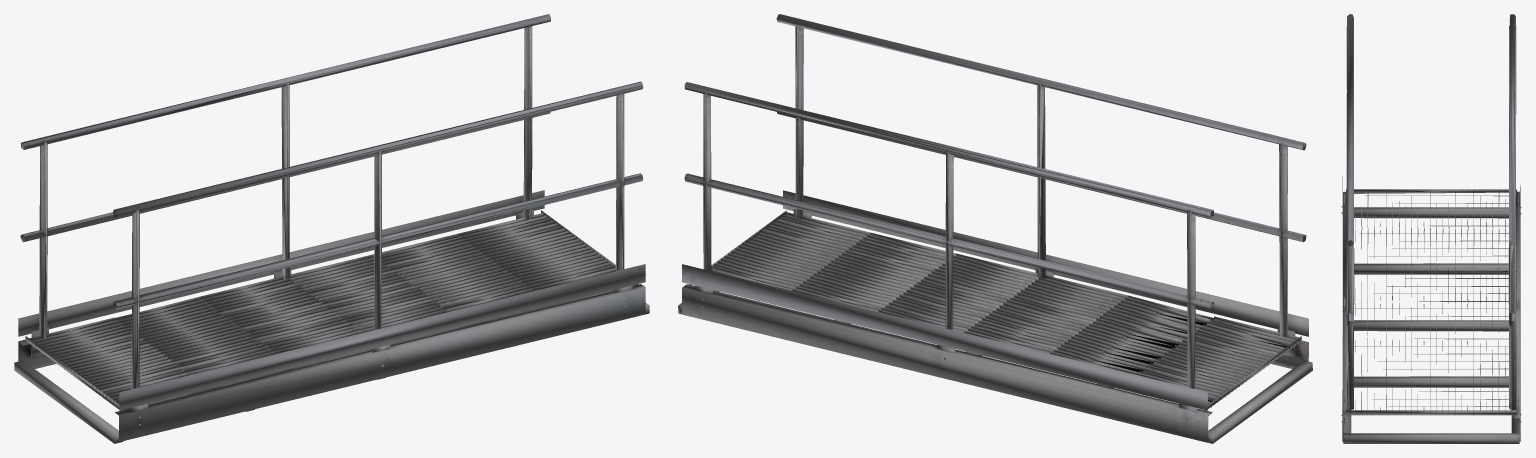
Rendered from industrial_walkway_section_lod2.glb.
The picture shows the model from 3 angles, left to right: view 1: azimuth 30°, elevation 25°; view 2: azimuth 150°, elevation 25°; view 3: azimuth 270°, elevation 25°; orthographic projection. The views are drawn at different scales.
Parts seen in each view (by area): view 1: industrial_walkway_section_paint; view 2: industrial_walkway_section_paint; view 3: industrial_walkway_section_paint.
Boxes of the visible parts, x1,y1,x2,y2 form: industrial_walkway_section_paint: (14,14,649,443); industrial_walkway_section_paint: (678,14,1312,443); industrial_walkway_section_paint: (1342,14,1520,443).
Bounding box in the file's own units: 3.05 × 1.25 × 1.01.
Materials: 2 (1 with a texture image).
